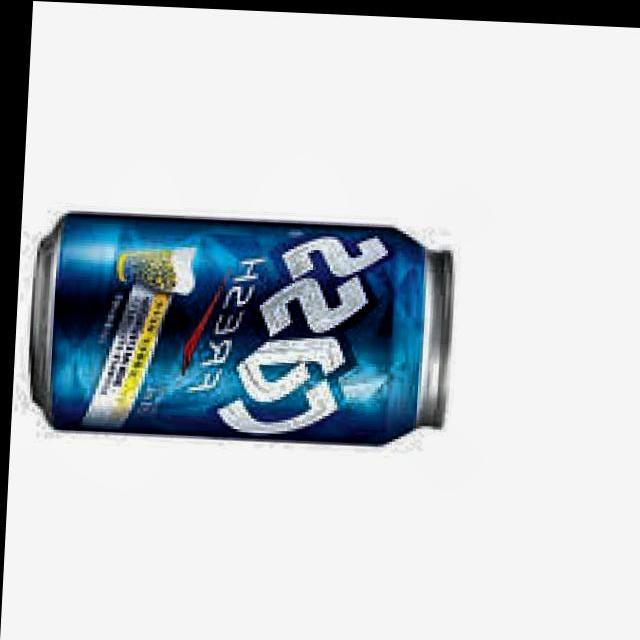litter: (14, 195, 468, 455)
